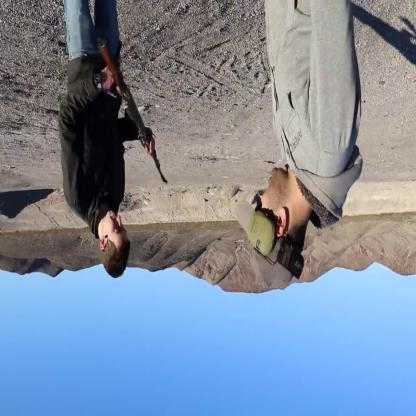long weapon: (86, 41, 180, 204)
